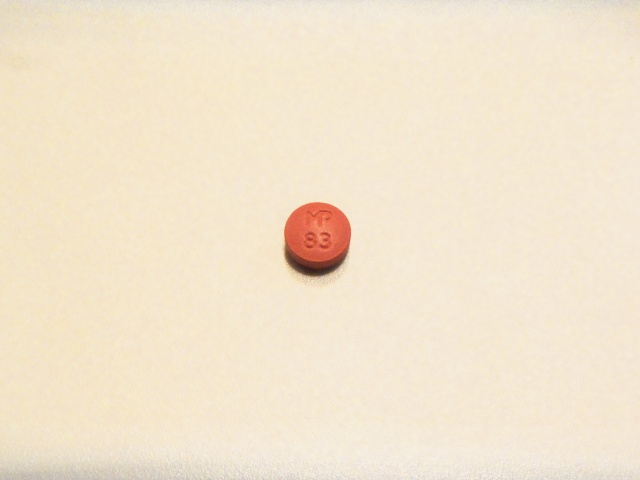3: (318, 230, 335, 253)
8: (302, 231, 318, 253)
M: (301, 208, 325, 228)
